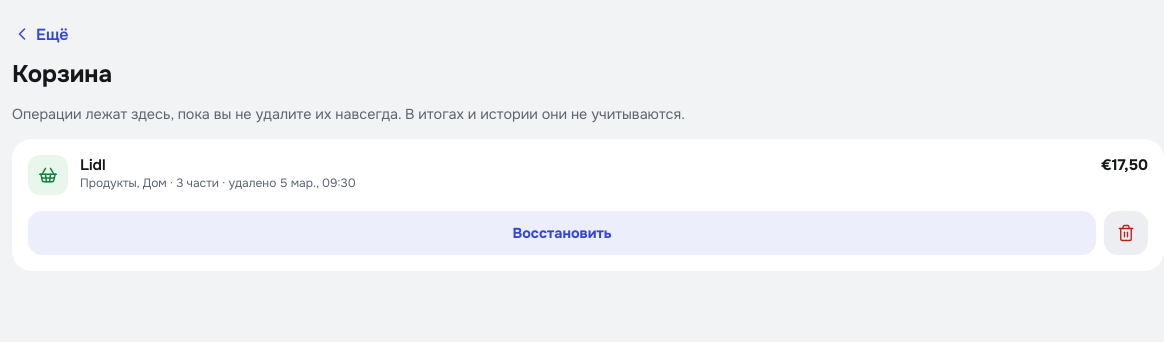
Test case: TrashScreen › words the confirmation for a split group
Click the button named "Удалить навсегда: Lidl" at (1126, 233), box [1104, 211, 1148, 255]
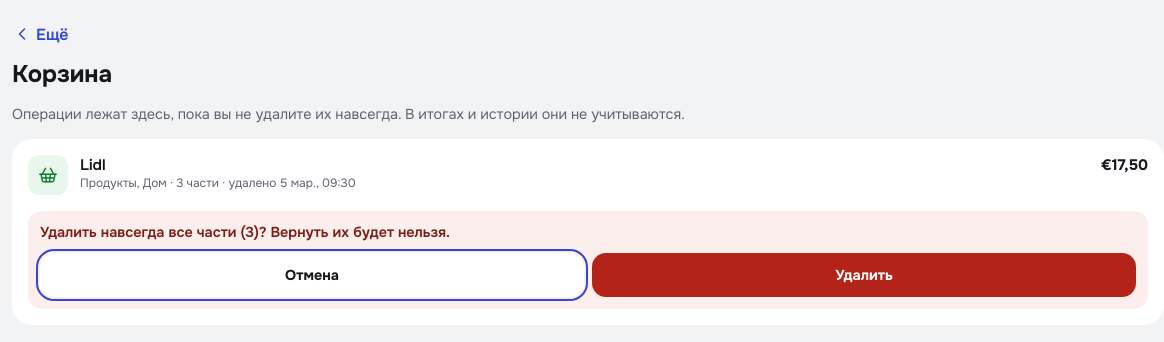
Expected: the text "Удалить навсегда все части (3)? Вернуть их будет нельзя." is shown, [40, 223, 450, 241]
